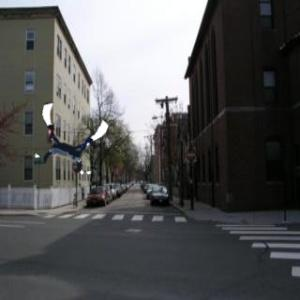drone: (33, 103, 106, 176)
